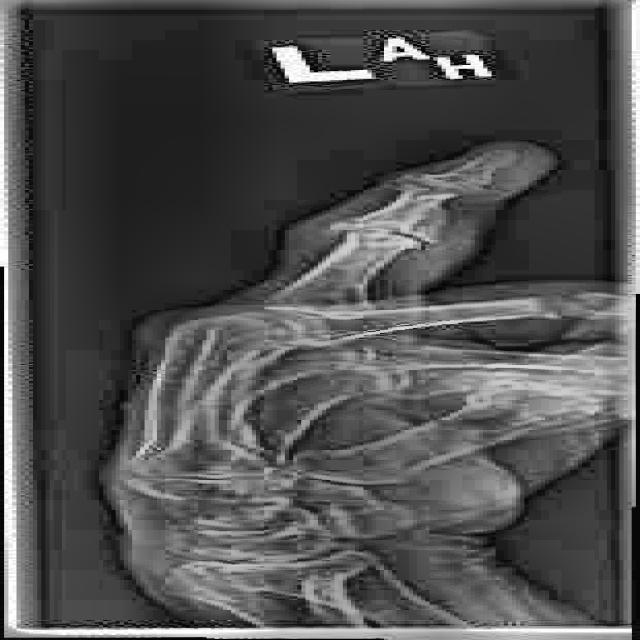fingers positive: (377, 161, 527, 215), (289, 208, 442, 243), (517, 287, 607, 334)
